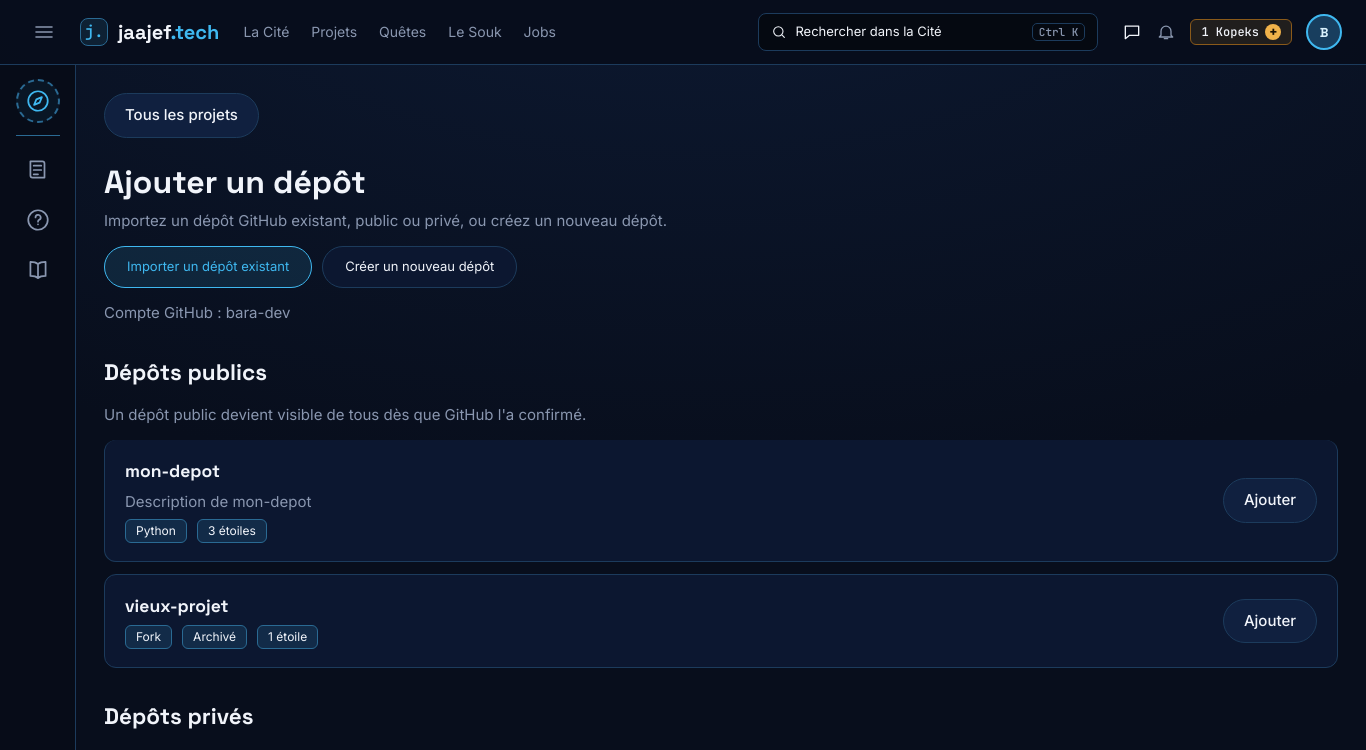
Import a project › explains the database refusal in plain French
Click the button with aria-label "Ajouter : mon-depot" at (1270, 501), box [1223,478,1317,523]
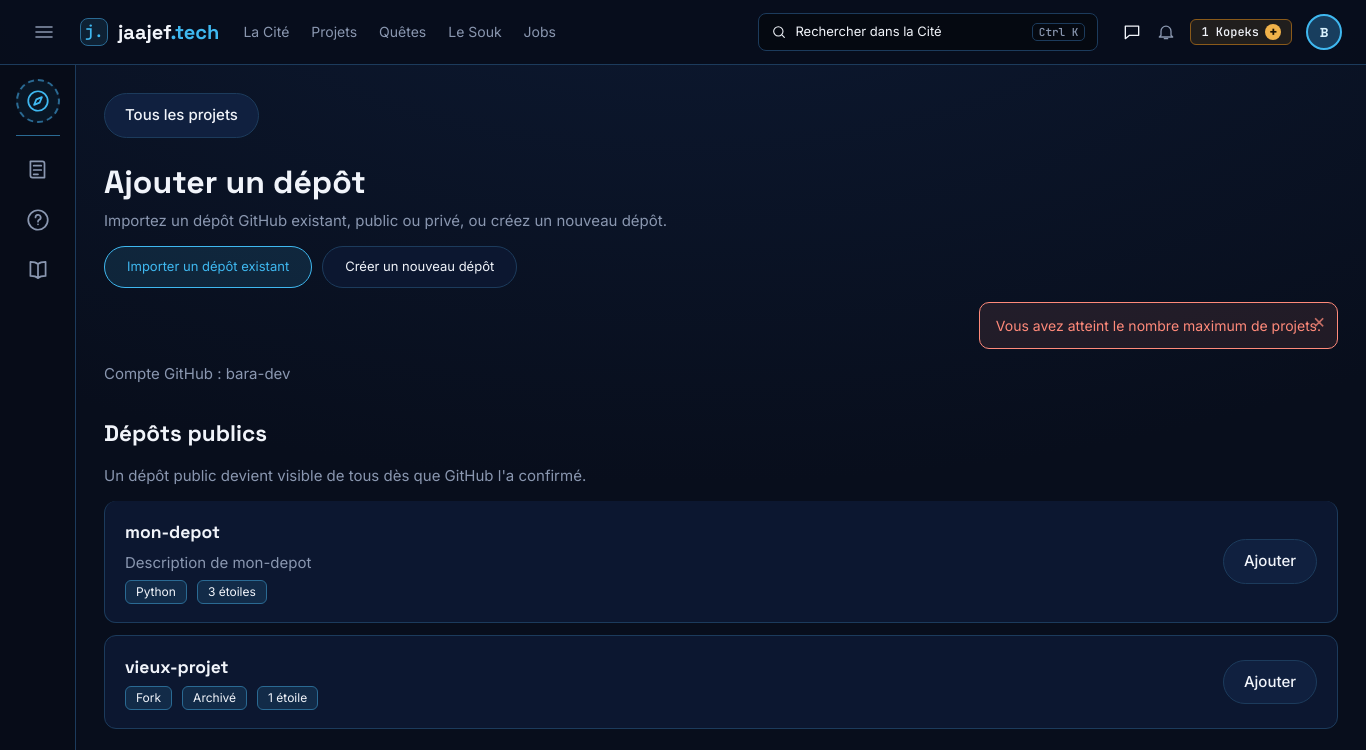
Expected: the button with aria-label "Ajouter : mon-depot" is enabled, [1223,539,1317,584]
Expected: the text "Vous avez atteint le nombre maximum de projets." is shown, [979,302,1338,348]
